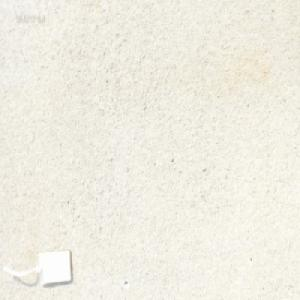LuggageTag: (12, 244, 73, 286)
